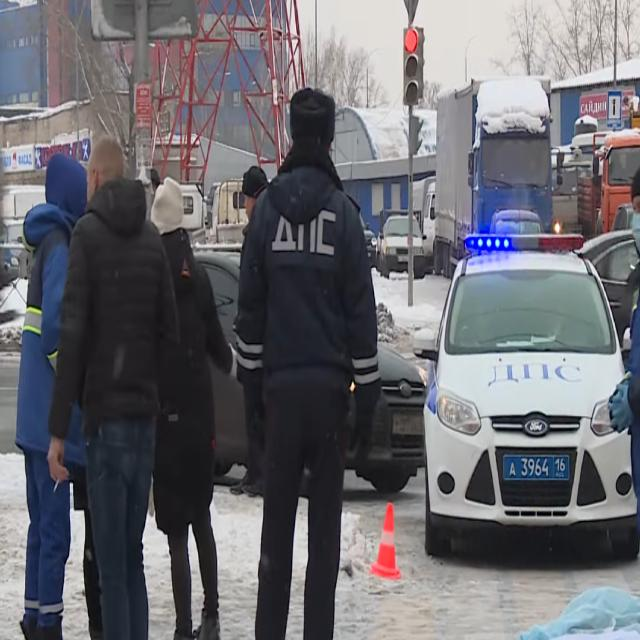non emergency car: (434, 86, 553, 270), (577, 135, 640, 239), (378, 213, 426, 284)
police car: (427, 231, 638, 555)
